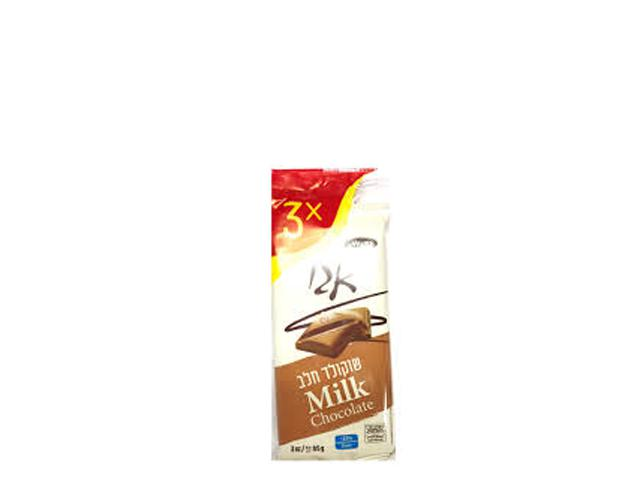chocolate: (259, 160, 399, 453)
